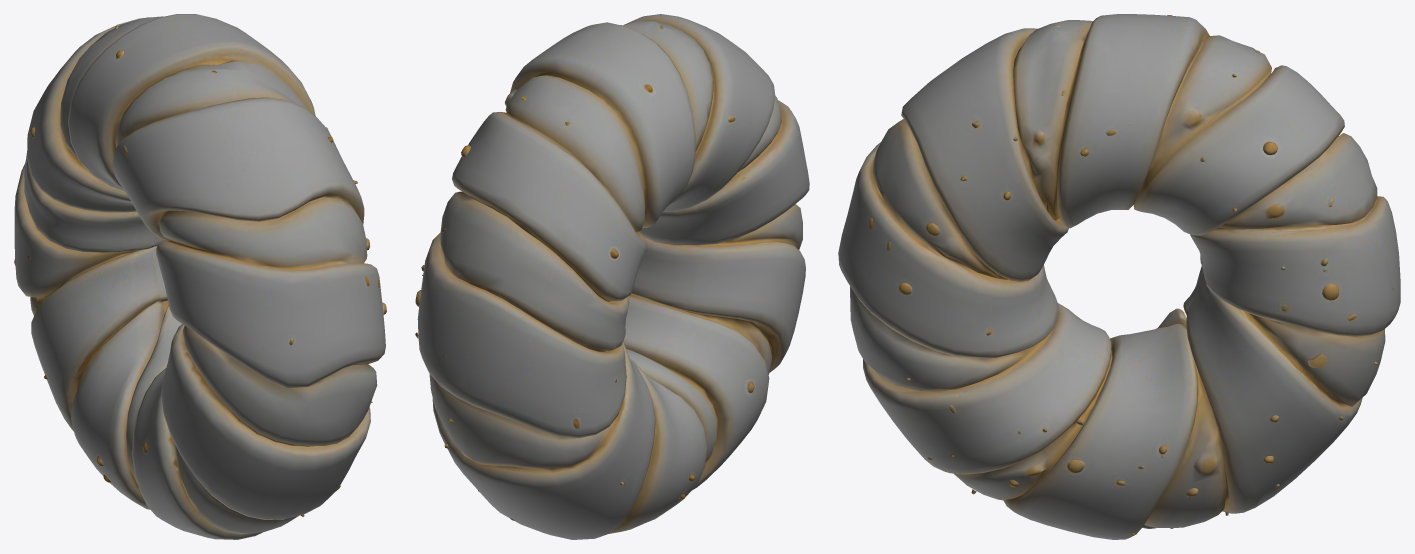
File: env_nest_donut_01.glb
3 views of the same model, side by side, from view 1: azimuth 30°, elevation 25°; view 2: azimuth 150°, elevation 25°; view 3: azimuth 270°, elevation 25° (orthographic). The views are drawn at different scales.
Visible parts, largest first — view 1: env_nest_donut_01; view 2: env_nest_donut_01; view 3: env_nest_donut_01.
Part boxes in pixels (<box>): env_nest_donut_01: <box>14,14,386,539</box>; env_nest_donut_01: <box>415,14,809,539</box>; env_nest_donut_01: <box>838,14,1400,539</box>.
Size of the model in its own units: 0.176 by 0.4 by 0.408.
Materials: 1 (1 with a texture image).
